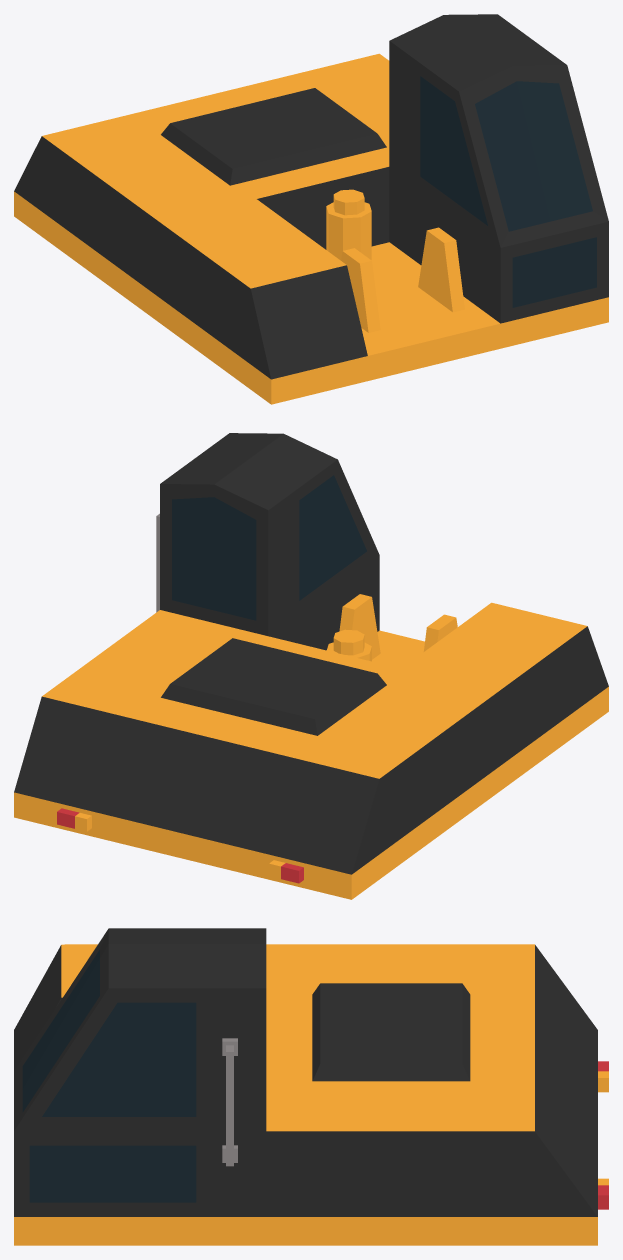
File: excavator-base.glb
3 renders of one model, top to bottom at view 1: azimuth 30°, elevation 25°; view 2: azimuth 150°, elevation 25°; view 3: azimuth 270°, elevation 25°, orthographic. The views are drawn at different scales.
Visible parts, largest first — view 1: excavator-base; view 2: excavator-base; view 3: excavator-base.
Boxes of the visible parts, x1,y1,x2,y2 form: excavator-base: [14, 14, 608, 404]; excavator-base: [14, 433, 608, 899]; excavator-base: [14, 928, 608, 1245].
Size of the model in its own units: 2.96 by 1.9 by 3.77.
Materials: 1 (1 with a texture image).
